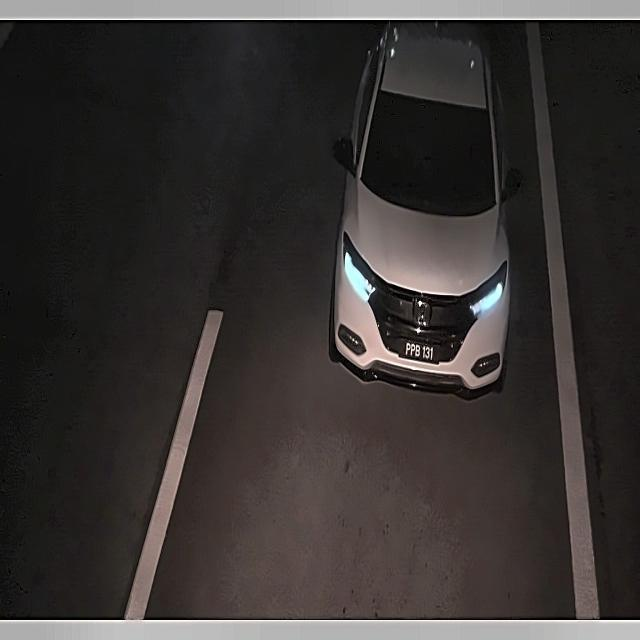car: (394, 332, 447, 372)
